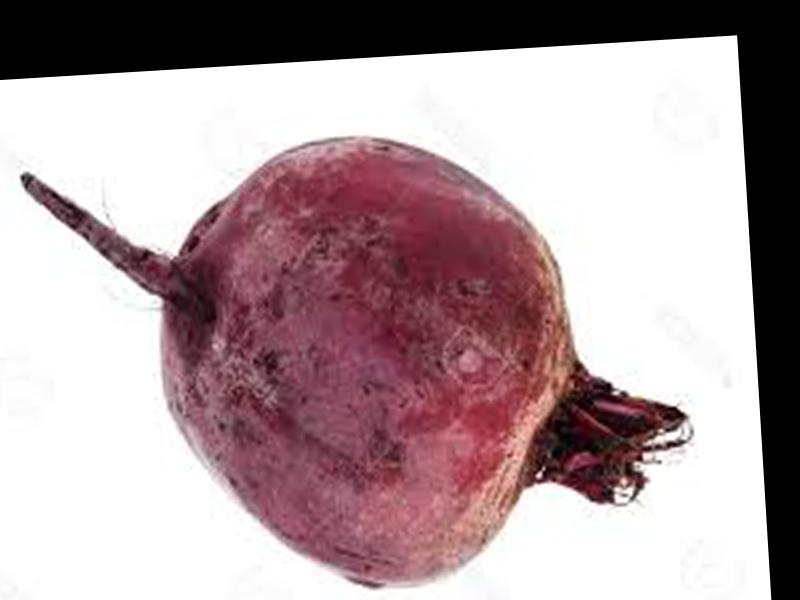Beet: (20, 116, 699, 600)
